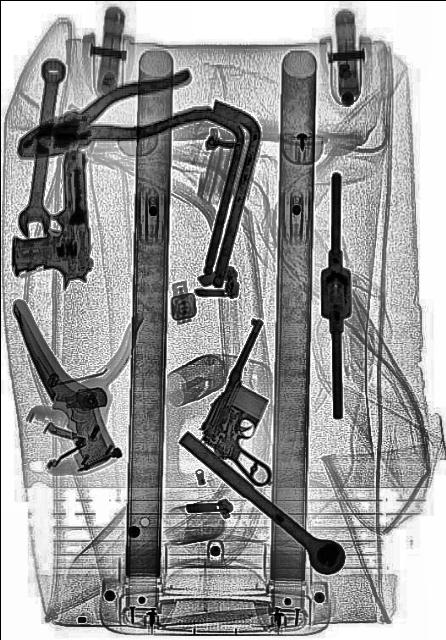Gun: (194, 312, 322, 494), (4, 144, 92, 292)
Pliers: (9, 58, 209, 175)
Wrench: (15, 54, 68, 238)
